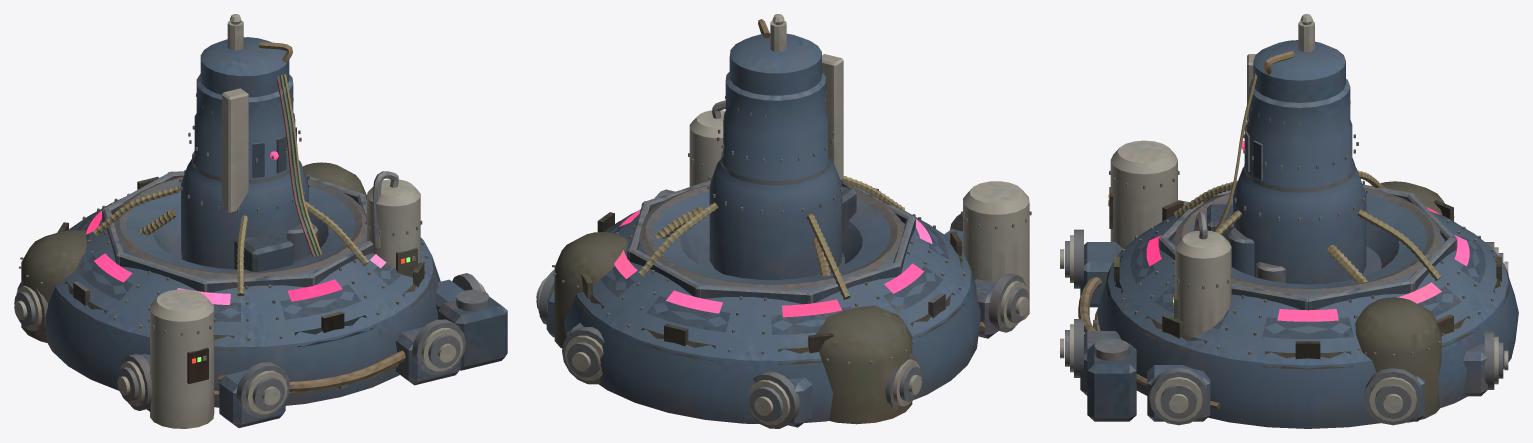
The model's file is fusion-reactor.glb.
3 views of the same model, side by side, from view 1: azimuth 30°, elevation 25°; view 2: azimuth 150°, elevation 25°; view 3: azimuth 270°, elevation 25° (orthographic). The views are drawn at different scales.
Visible parts, largest first — view 1: body, anim_glow_plasma; view 2: body, anim_glow_plasma; view 3: body, anim_glow_plasma.
Part boxes in pixels (box(x1,y1,x2,y2)): body: box(14, 14, 507, 428); anim_glow_plasma: box(86, 151, 386, 304); body: box(536, 14, 1031, 428); anim_glow_plasma: box(614, 209, 932, 317); body: box(1060, 14, 1518, 428); anim_glow_plasma: box(1146, 141, 1469, 321).
Bounding box in the file's own units: 6.18 × 5.11 × 6.53.
4 materials, 4 textured.
